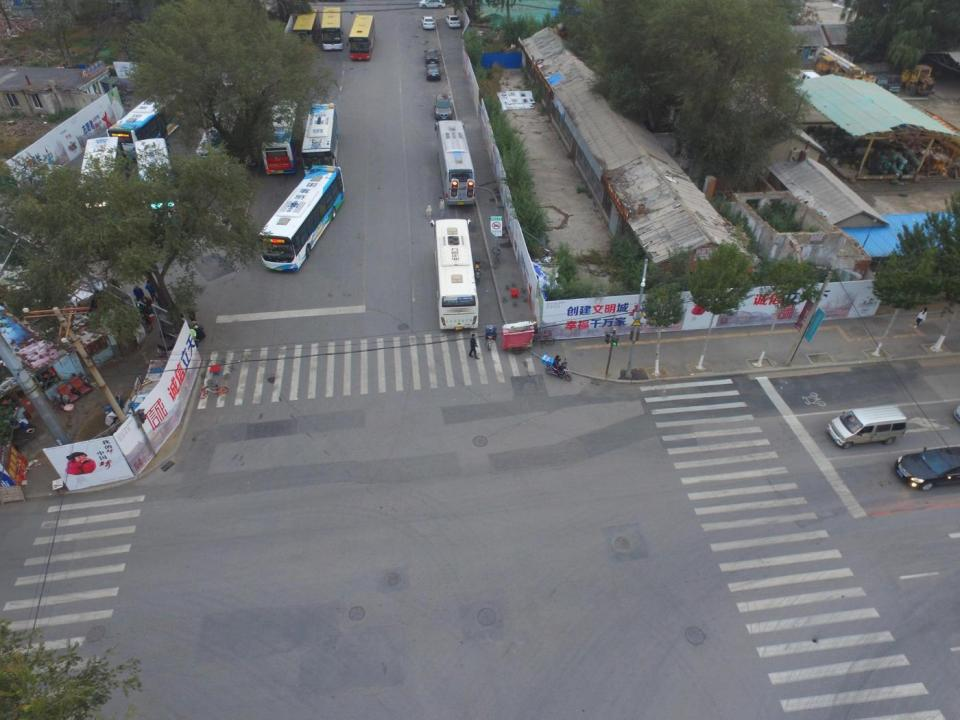bus: (257, 165, 346, 273), (107, 87, 189, 157), (435, 219, 479, 332), (80, 138, 128, 218), (196, 95, 252, 163), (436, 120, 478, 208), (134, 140, 180, 216), (257, 98, 301, 176), (300, 102, 338, 176), (286, 6, 319, 57), (348, 14, 375, 60), (320, 6, 345, 52)
car: (895, 444, 960, 492), (434, 94, 452, 120), (882, 72, 902, 95), (446, 14, 463, 30), (425, 63, 441, 80), (419, 0, 445, 10), (424, 49, 440, 64), (421, 16, 435, 31)
truck: (814, 48, 875, 91), (901, 66, 935, 95)
van: (827, 407, 907, 447), (786, 68, 823, 87), (871, 74, 889, 92)
